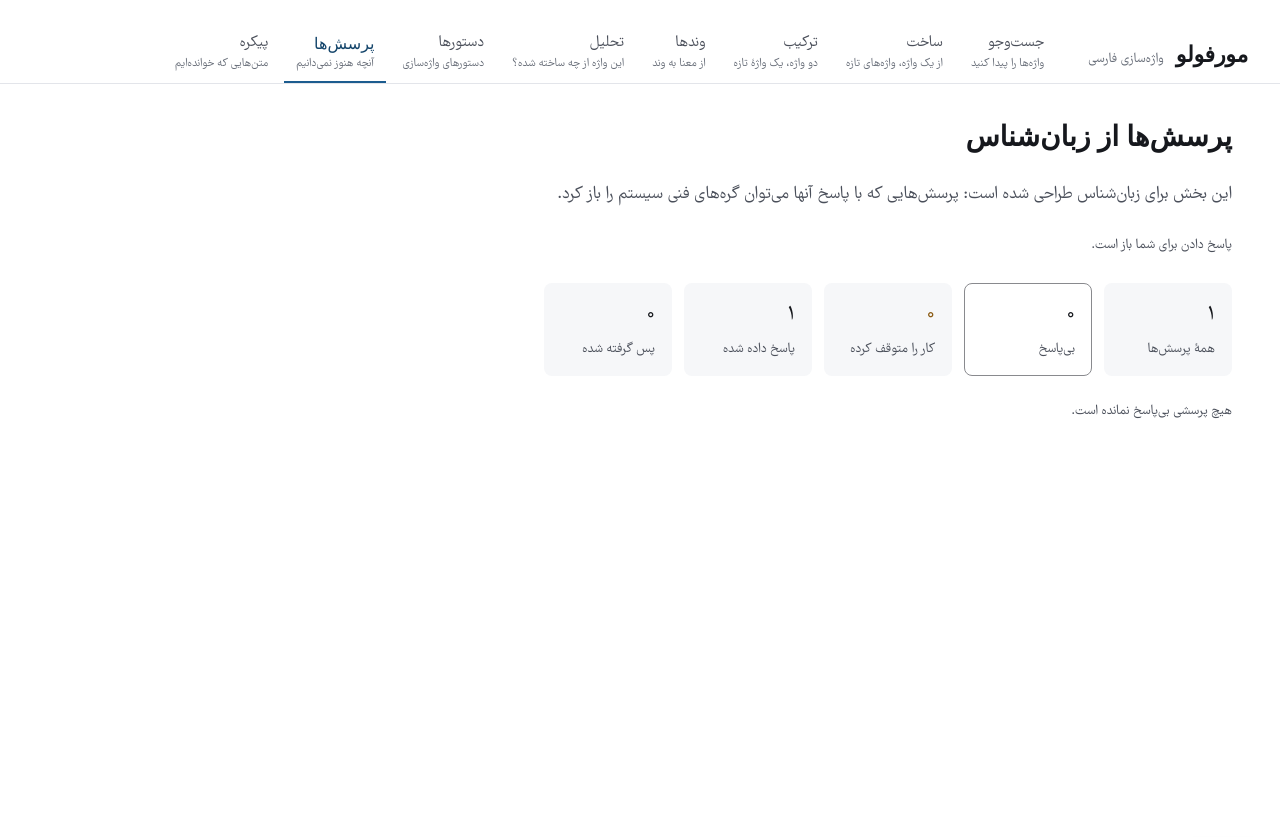
Test case: the questions screen › shows the ruling that stands, and says when the answer changed
Click the button "۱ پاسخ داده شده".
click(748, 330)  # box [684,283,812,376]
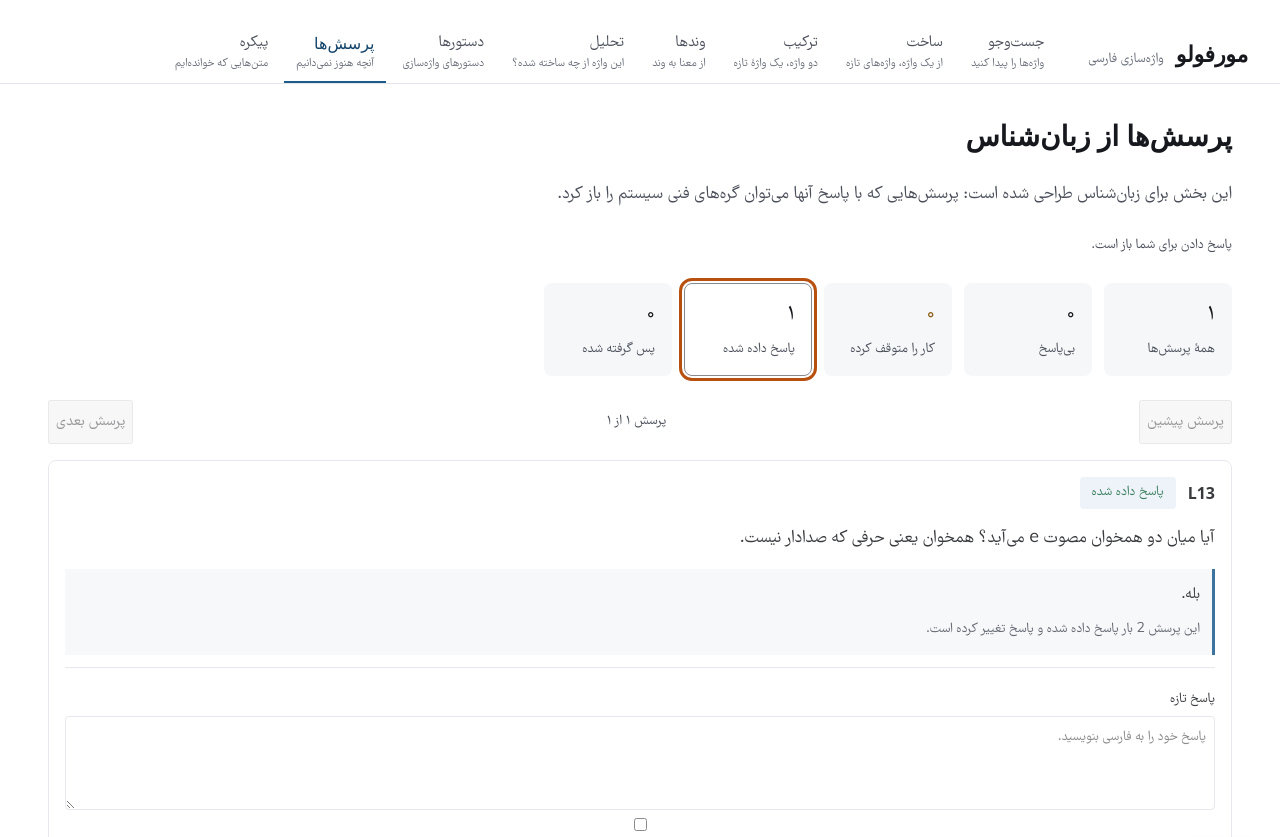
Expected: the text "بله." is shown, [1181,584,1200,606]
Expected: the text "این پرسش 2 بار پاسخ داده شده و پاسخ تغییر کرده است." is shown, [926,620,1200,639]
